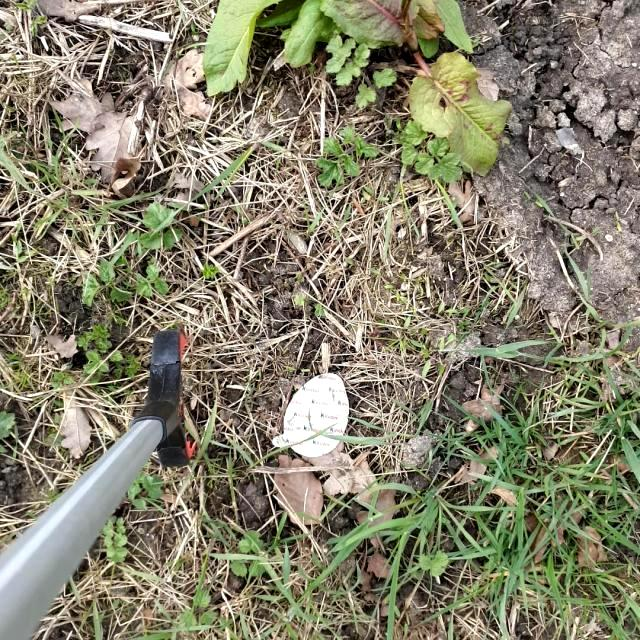Paper: (269, 372, 351, 458)
